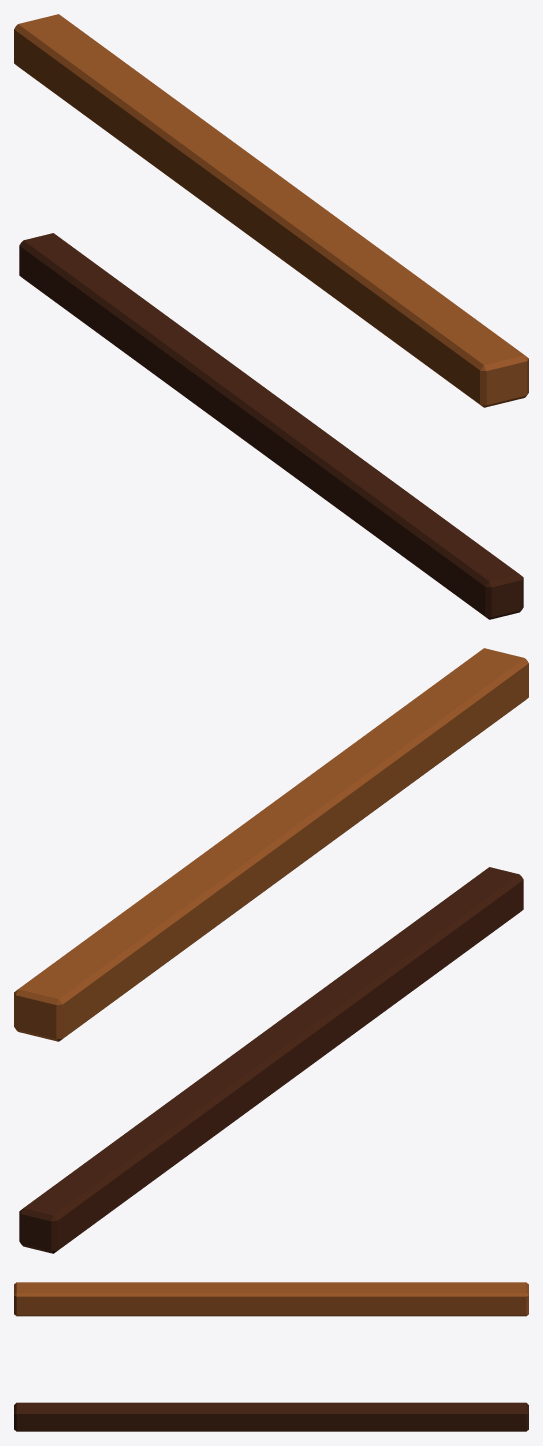
File: D33_Rail_Pair_2m.fbx
3 views of the same model, one above another, from view 1: azimuth 30°, elevation 25°; view 2: azimuth 150°, elevation 25°; view 3: azimuth 270°, elevation 25° (orthographic). The views are drawn at different scales.
Parts seen in each view (by area): view 1: D33_Rail_Pair_2m; view 2: D33_Rail_Pair_2m; view 3: D33_Rail_Pair_2m.
Part boxes in pixels (bbox=[...]): D33_Rail_Pair_2m: bbox=[14, 14, 528, 619]; D33_Rail_Pair_2m: bbox=[14, 648, 528, 1253]; D33_Rail_Pair_2m: bbox=[14, 1282, 528, 1431].
Bounding box in the file's own units: 0.12 × 0.6 × 2.
2 materials, 2 textured.
